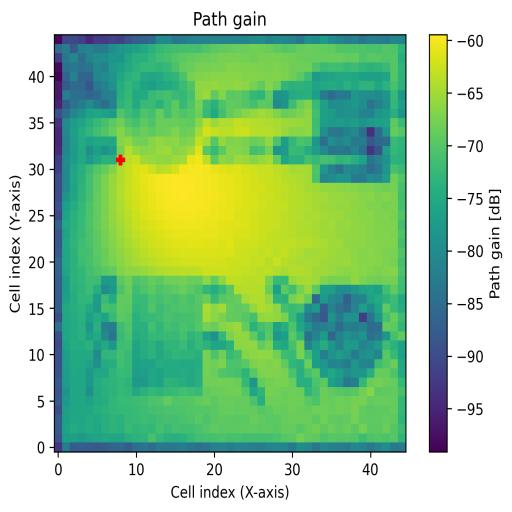Concrete: (313, 64, 391, 184)
Glass: (128, 68, 196, 171)
Metal: (304, 286, 388, 388)
Wood: (131, 275, 203, 396)
